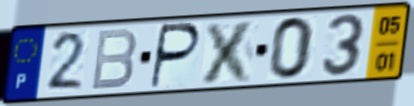0: (265, 15, 320, 82)
2: (42, 29, 90, 96)
3: (319, 12, 369, 79)
B: (88, 27, 139, 93)
P: (147, 21, 203, 91)
X: (198, 18, 260, 86)
